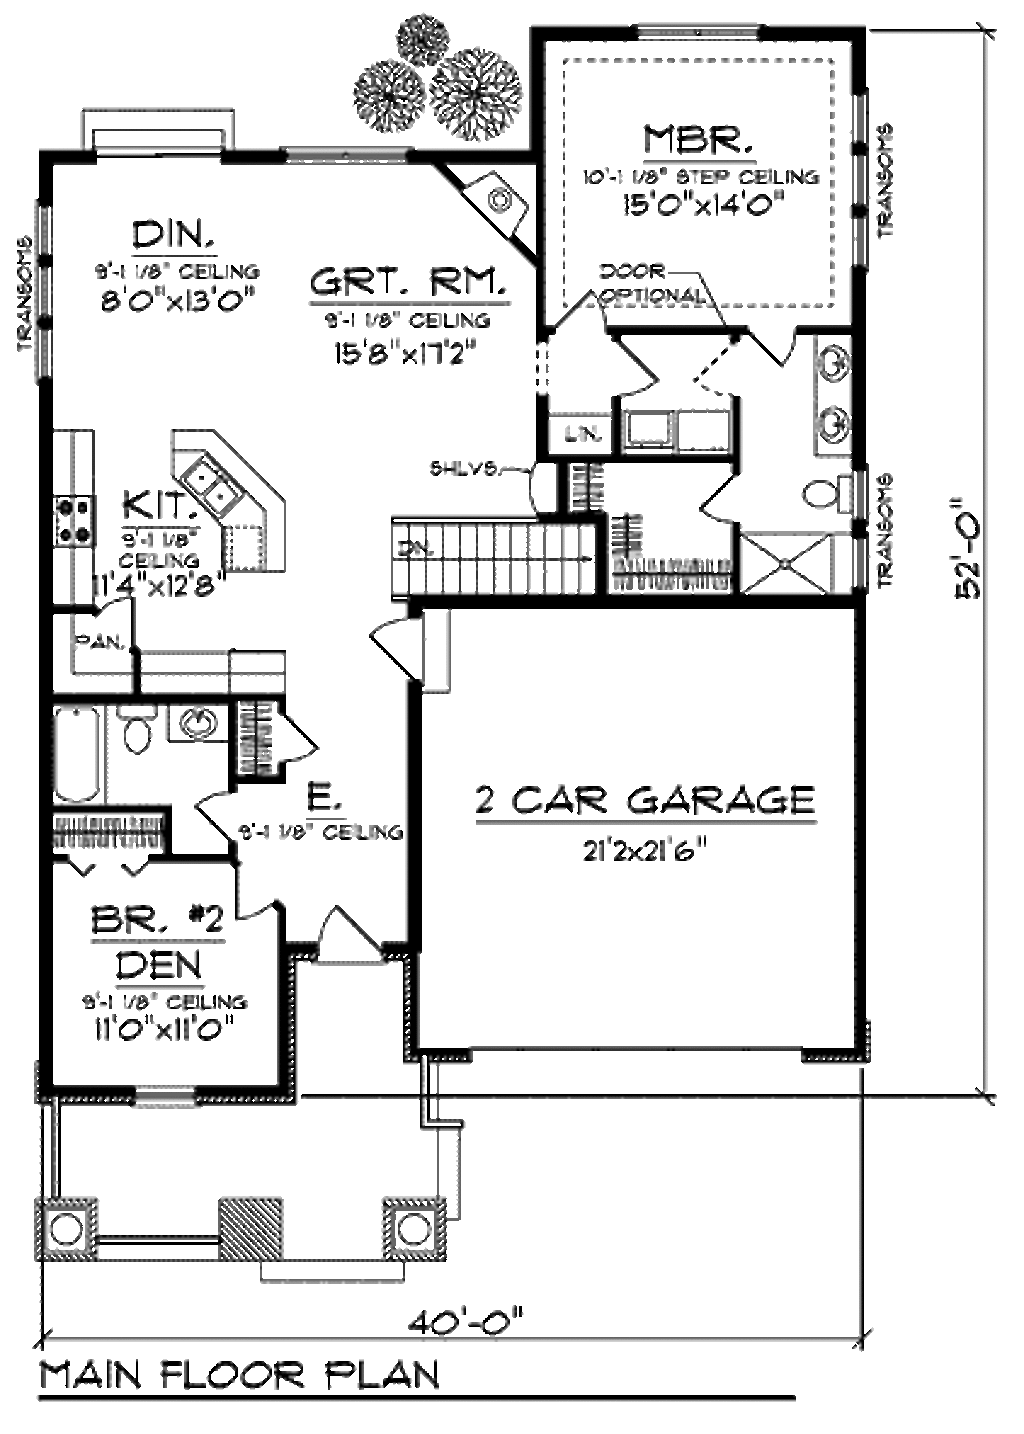door: (357, 600, 479, 711), (253, 686, 328, 775), (693, 326, 757, 406), (93, 584, 162, 651), (697, 469, 766, 535), (313, 907, 382, 969), (608, 337, 673, 402), (199, 786, 259, 844), (748, 306, 802, 369), (224, 860, 277, 916), (557, 275, 610, 332)
large_sink: (799, 455, 870, 533), (113, 693, 157, 769)
small_sink: (803, 329, 859, 457), (166, 695, 233, 740)
stairs: (379, 493, 624, 591)
tub: (44, 706, 110, 802)
twin_sink: (166, 437, 255, 522)
window: (830, 89, 890, 269), (277, 124, 428, 170), (635, 9, 764, 44), (35, 195, 48, 380)
